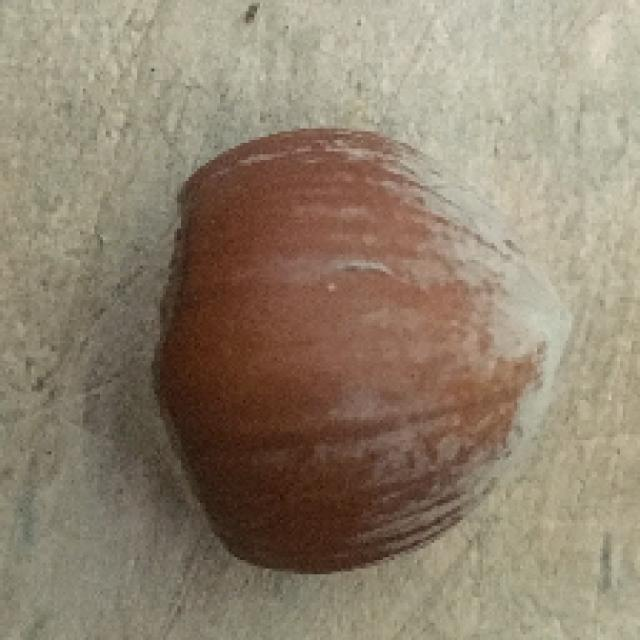qualityHazelnut: (146, 128, 574, 575)
